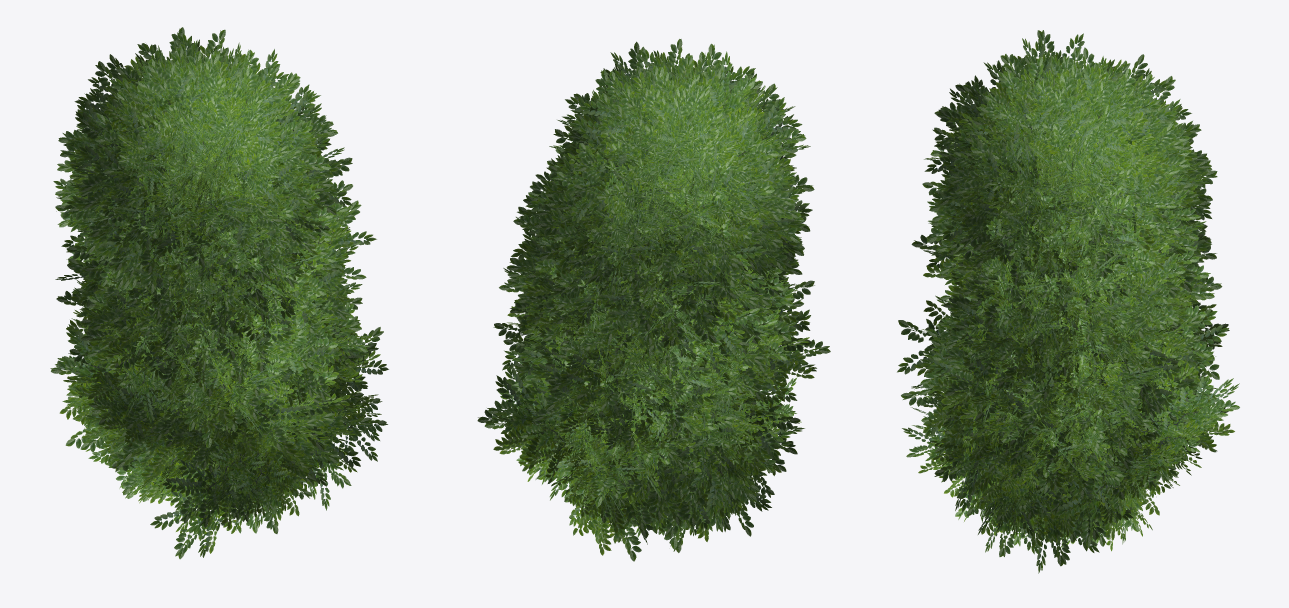
File: bush.glb
3 views of the same model, side by side, from view 1: azimuth 30°, elevation 25°; view 2: azimuth 150°, elevation 25°; view 3: azimuth 270°, elevation 25° (orthographic).
Visible parts, largest first — view 1: Tree; view 2: Tree; view 3: Tree.
Part boxes in pixels (bbox=[...]): Tree: bbox=[50, 27, 388, 559]; Tree: bbox=[477, 39, 830, 561]; Tree: bbox=[897, 30, 1239, 573].
Bounding box in the file's own units: 44.52 × 68.93 × 45.79.
Materials: 2 (2 with a texture image).
